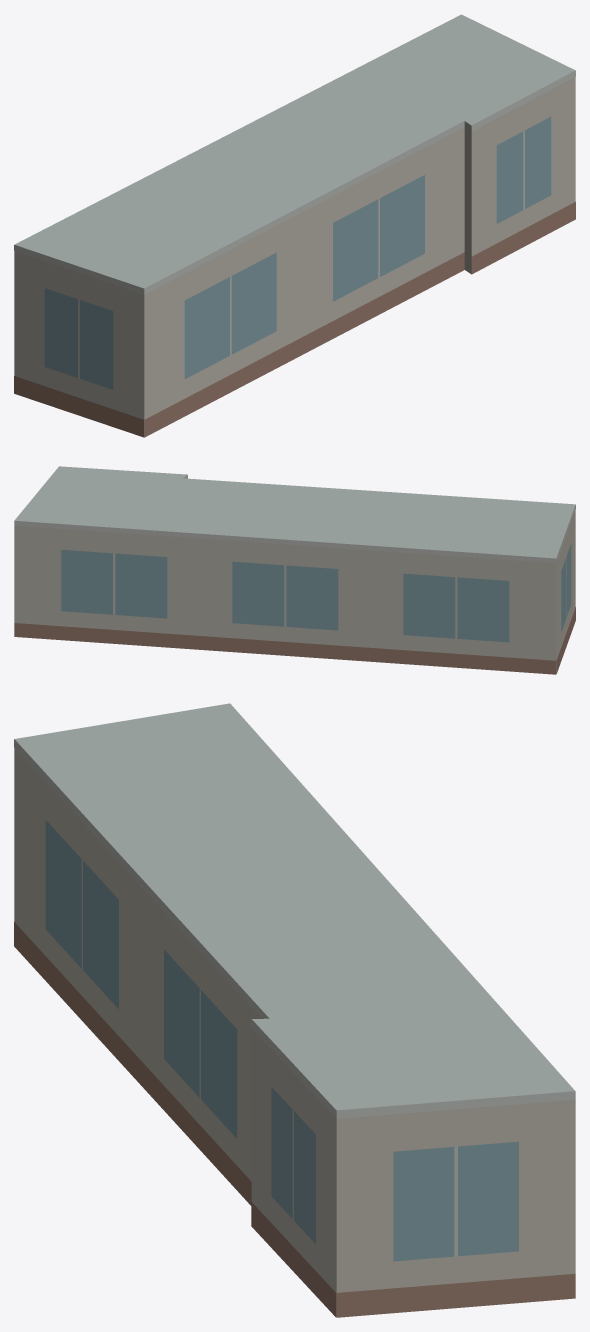
File: survey-upis-32627448.glb
3 views of the same model, one above another, from view 1: azimuth 30°, elevation 25°; view 2: azimuth 150°, elevation 25°; view 3: azimuth 270°, elevation 25° (orthographic). The views are drawn at different scales.
Parts seen in each view (by area): view 1: survey-upis-32627448.tmp; view 2: survey-upis-32627448.tmp; view 3: survey-upis-32627448.tmp.
Part boxes in pixels (x1,y1,x2,y2): survey-upis-32627448.tmp: [14, 14, 575, 437]; survey-upis-32627448.tmp: [14, 466, 575, 674]; survey-upis-32627448.tmp: [14, 703, 575, 1317].
Size of the model in its own units: 12.87 by 3.05 by 7.5.
